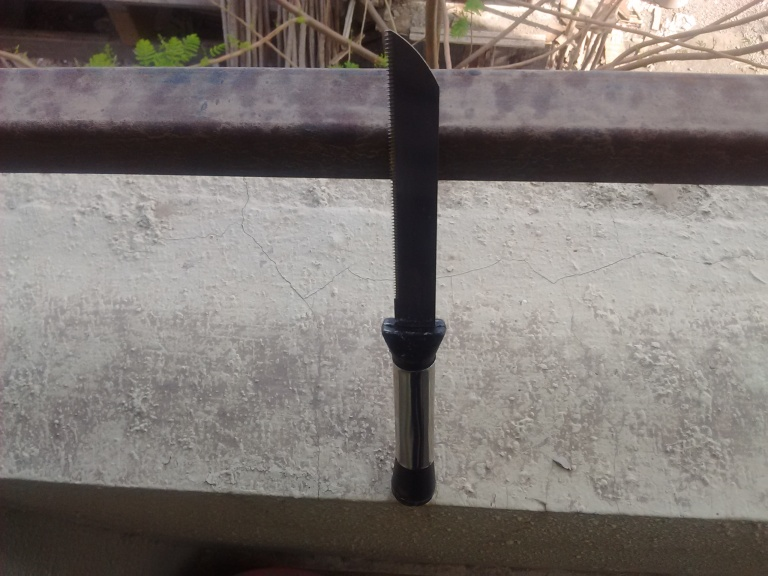knife: (381, 32, 448, 507)
